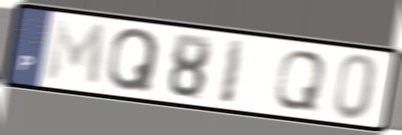0: (330, 52, 380, 123)
8: (165, 32, 213, 101)
I: (216, 36, 249, 107)
M: (43, 16, 108, 90)
Q: (105, 26, 163, 94), (271, 49, 330, 114)
